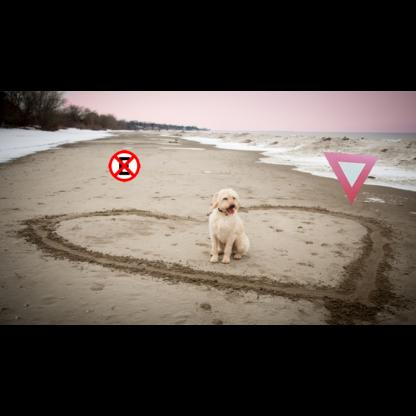R-2: (323, 152, 379, 204)
R-6c: (108, 150, 140, 182)
